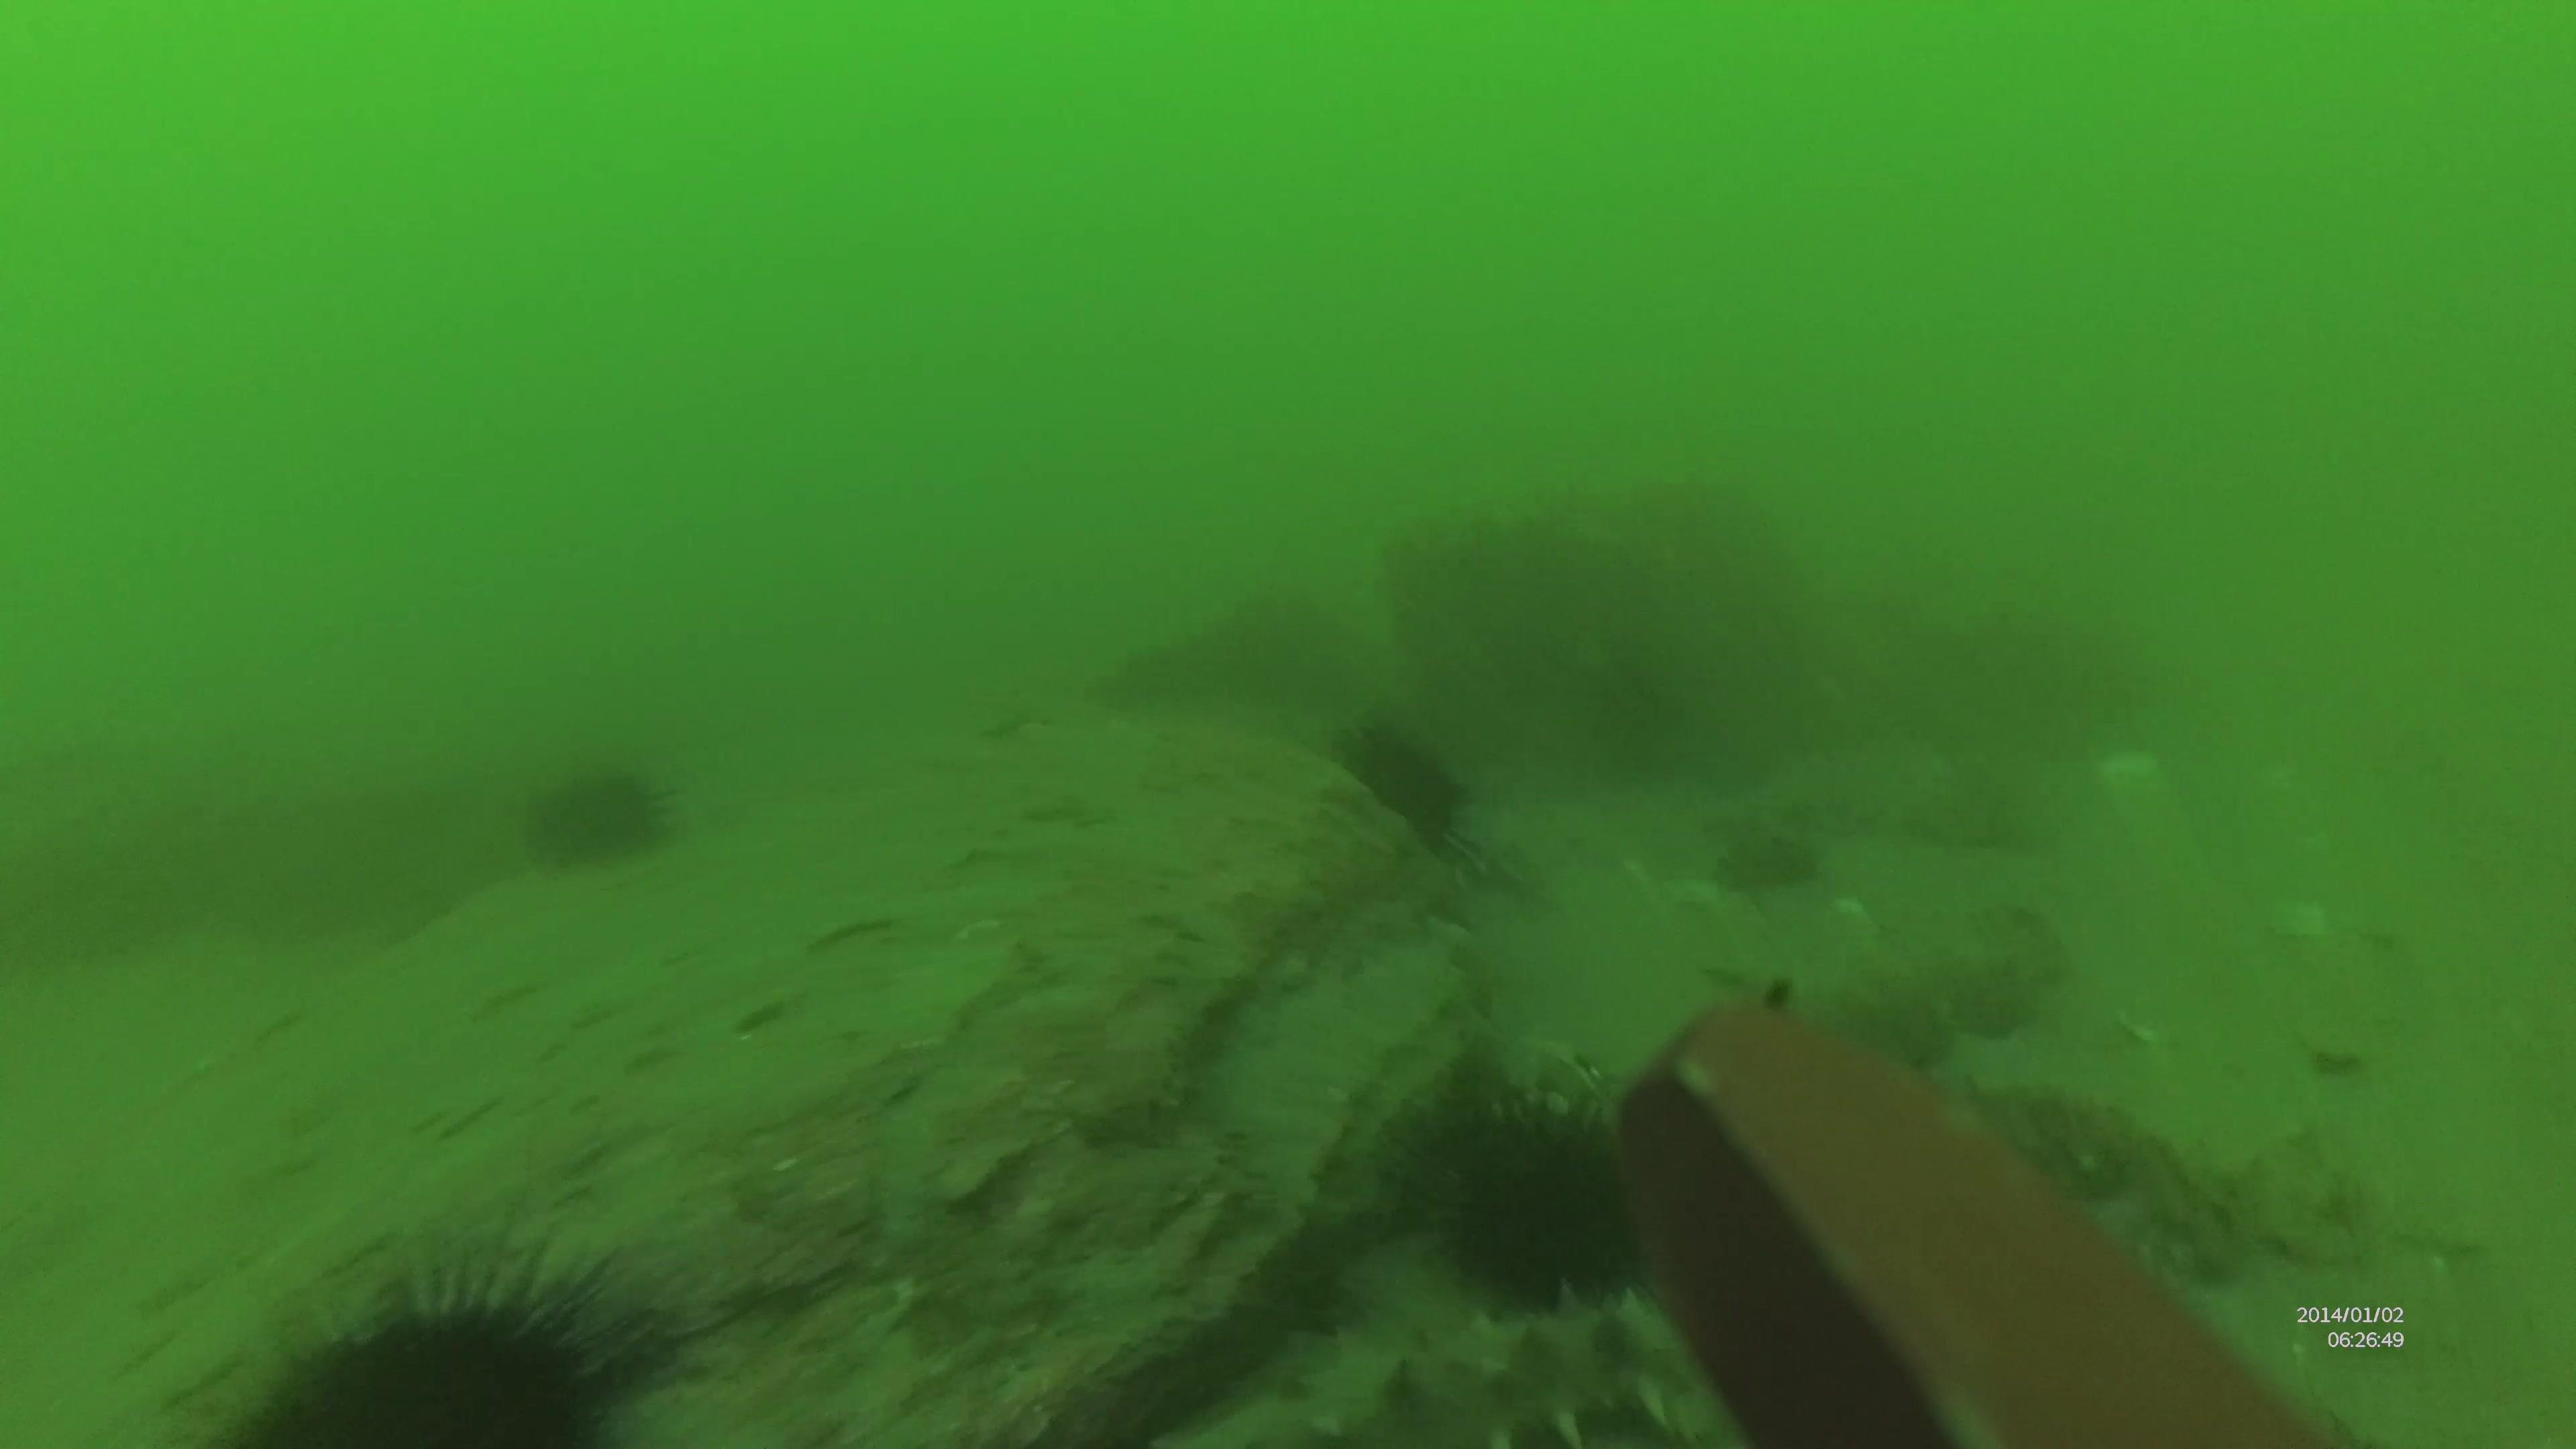echinus: (207, 1256, 658, 1449), (1407, 1074, 1674, 1300), (1330, 718, 1479, 860), (499, 766, 686, 869)
holothurian: (1325, 1313, 1700, 1449)
